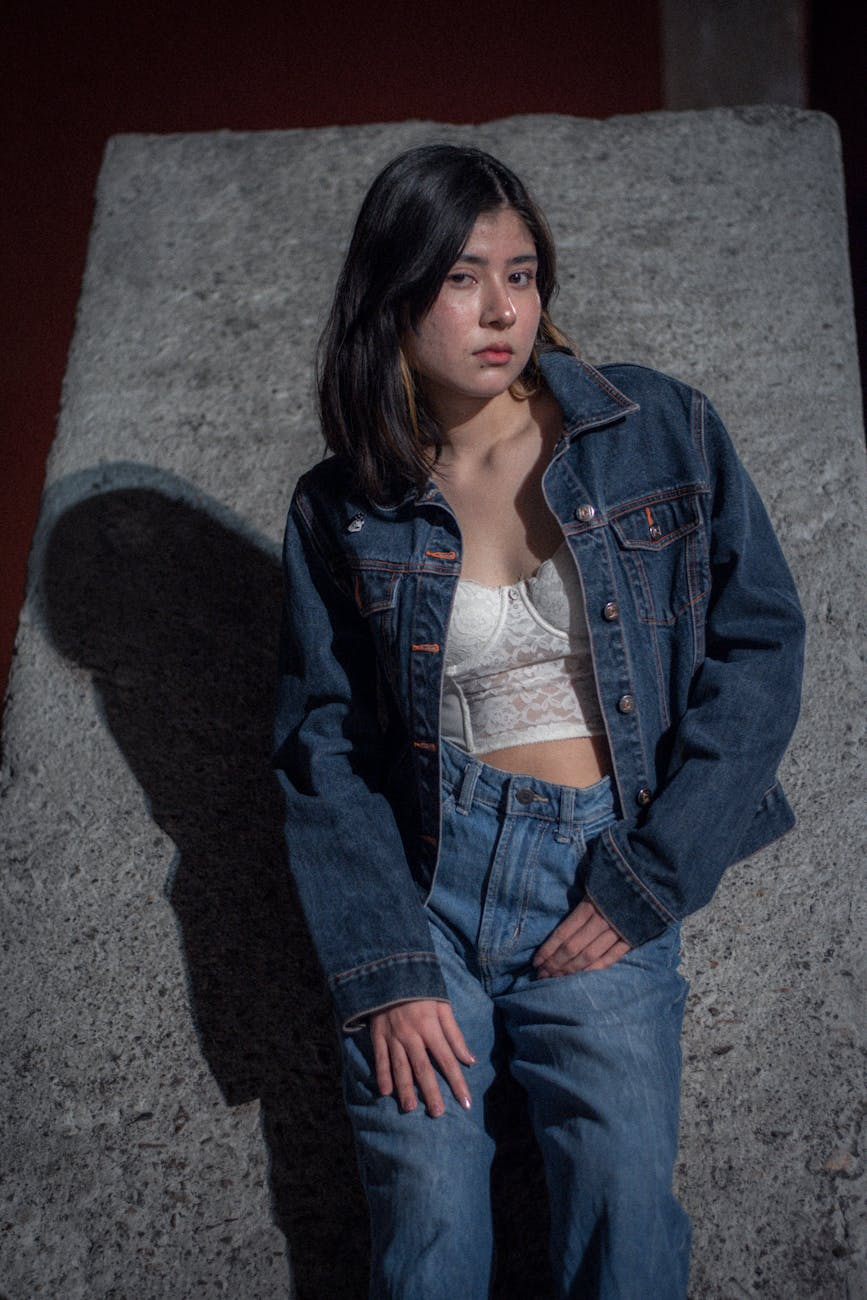crop_top: (380, 540, 652, 752)
